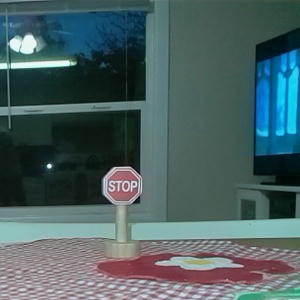stop sign: (98, 164, 146, 260)
